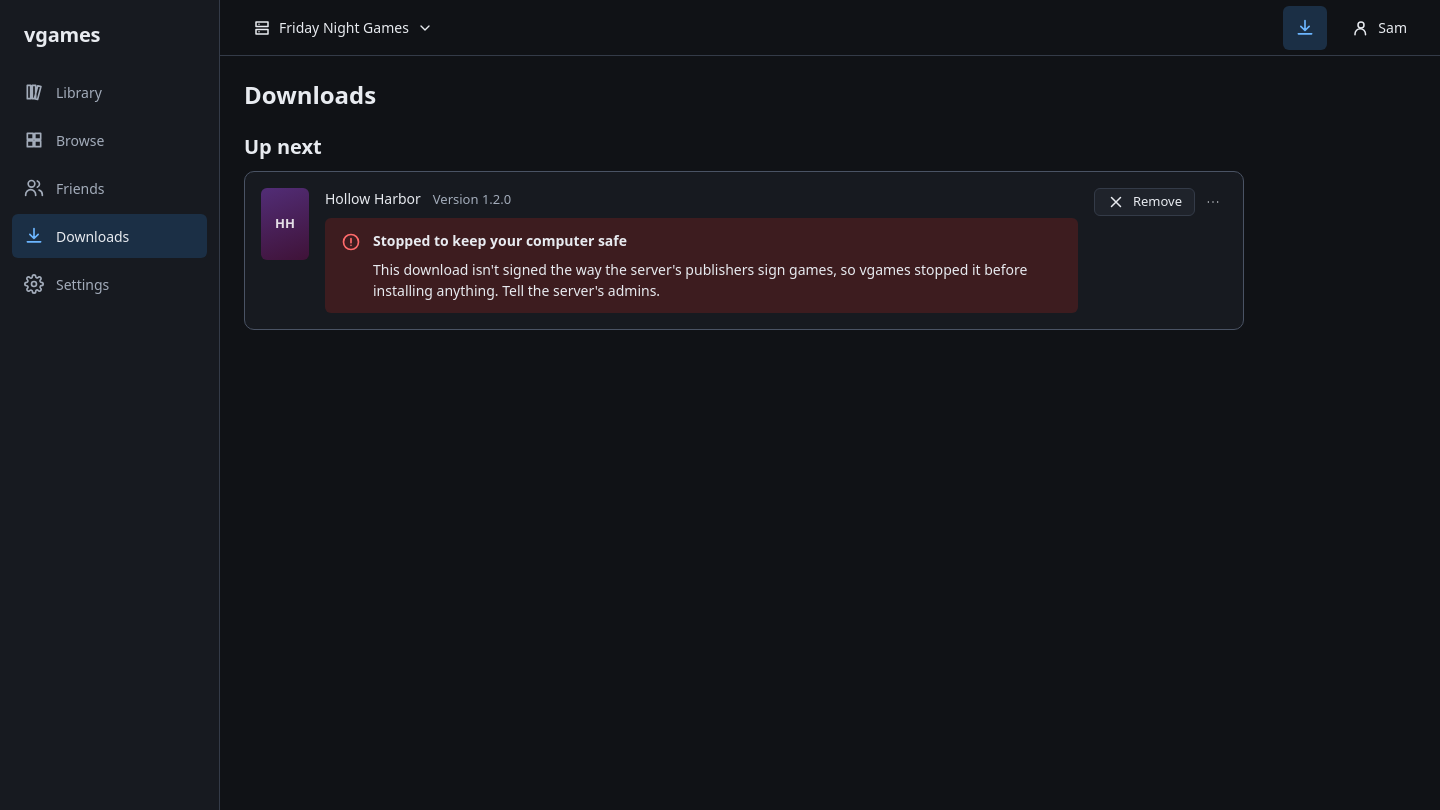
it: downloads › failed › signature_invalid: a security explanation and no retry
Check: the message shows "Stopped to keep your computer safe", box [373,230,627,250]
Check: the message shows "isn't signed the way the server's publishers sign games", box [373,260,1027,300]
Click the button with aria-label "Remove Hollow Harbor from the list" at (1144, 202), box [1094,188,1195,216]
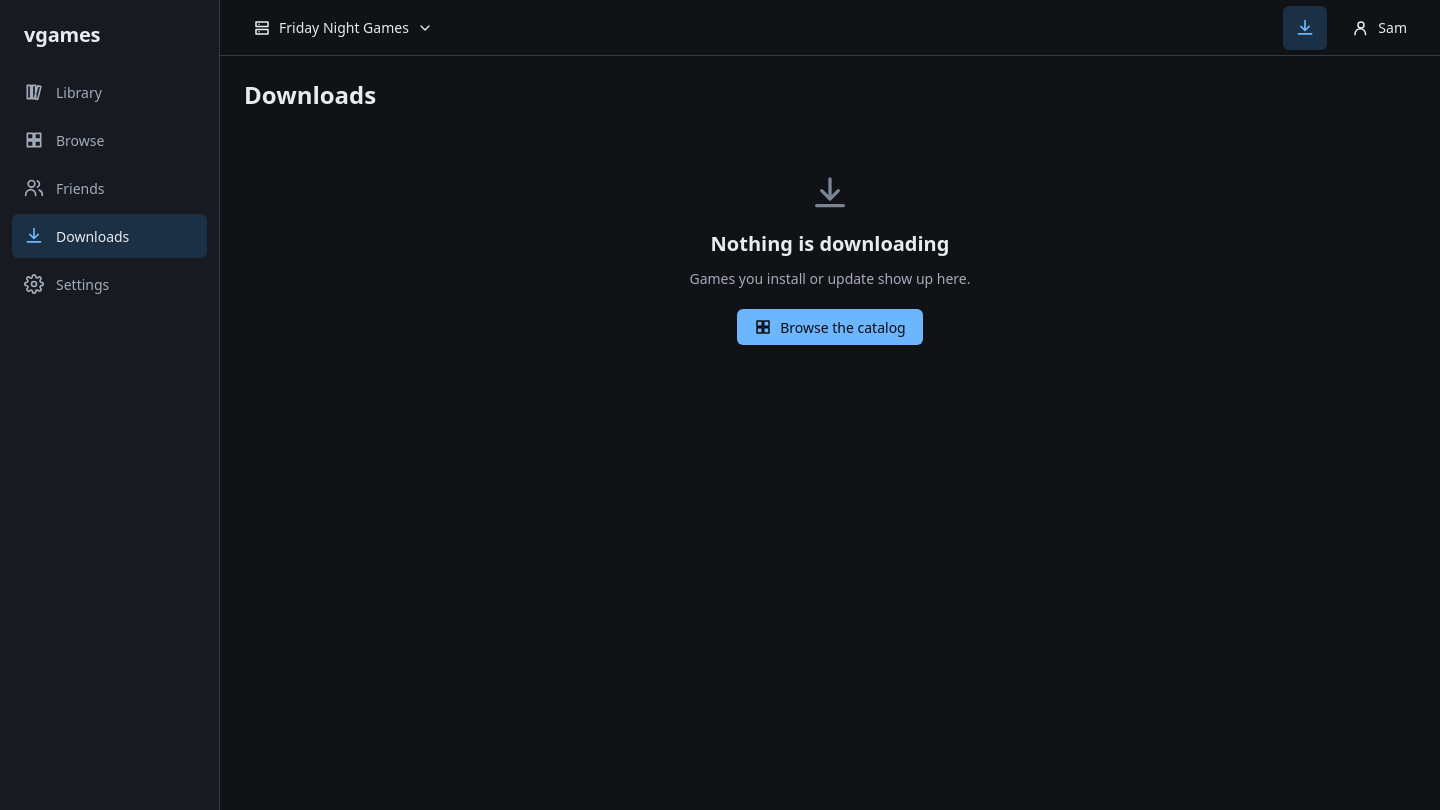
Check: the heading "Up next" is gone
